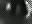person: (25, 1, 32, 19), (6, 3, 13, 12), (17, 4, 22, 16)
